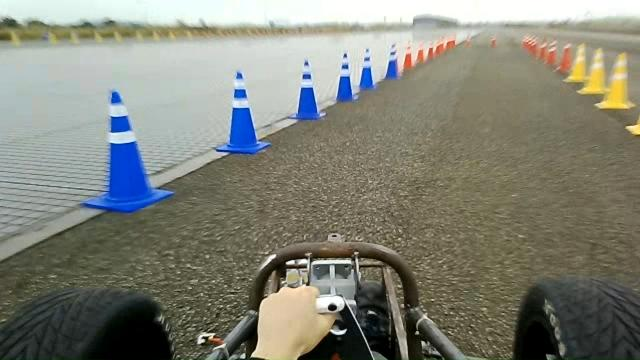blue cone: (80, 90, 174, 213), (215, 71, 271, 154), (288, 58, 326, 120), (335, 52, 355, 102), (358, 48, 376, 90), (384, 43, 400, 80)
